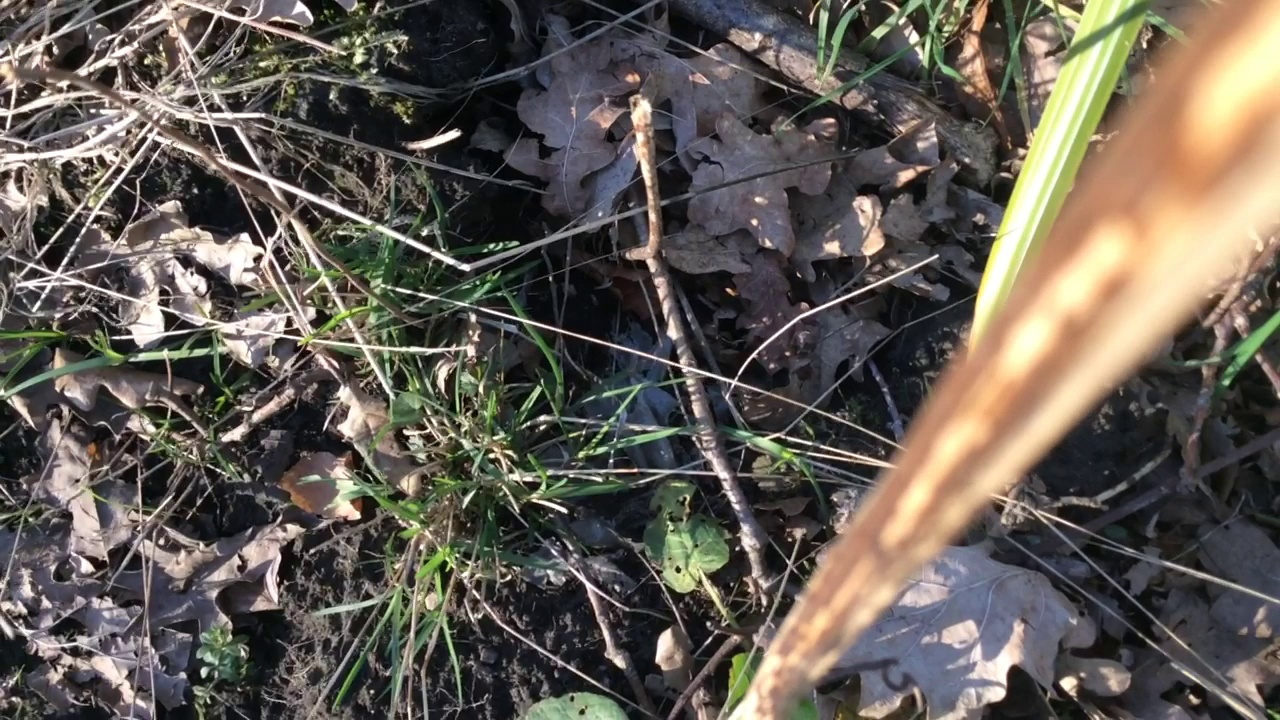rumex: (524, 480, 742, 720)
